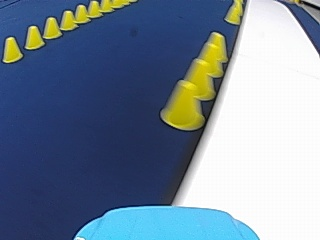cone: (159, 76, 205, 129), (193, 31, 228, 77), (180, 55, 216, 99), (2, 35, 22, 62), (24, 25, 43, 49), (43, 16, 61, 39), (223, 0, 241, 23), (59, 10, 76, 30), (74, 4, 88, 23), (87, 0, 100, 17), (100, 0, 112, 11)
